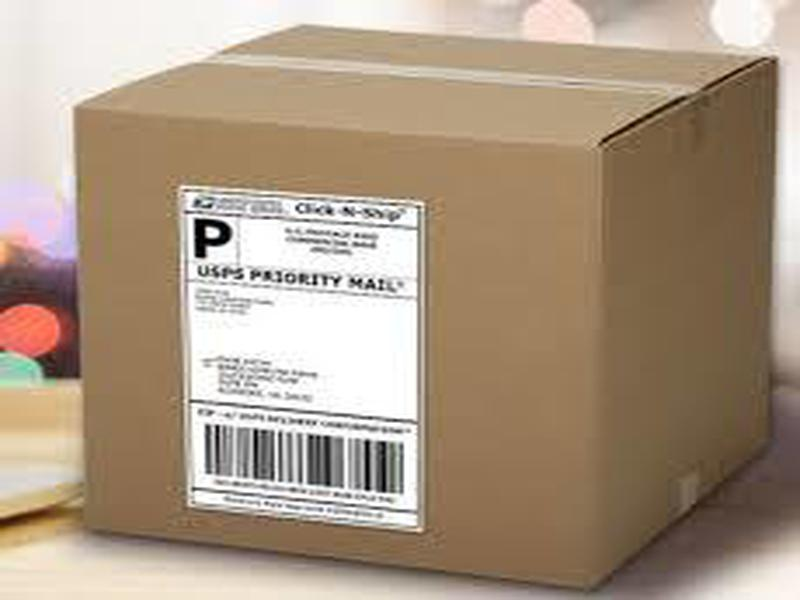package: (54, 17, 786, 585)
